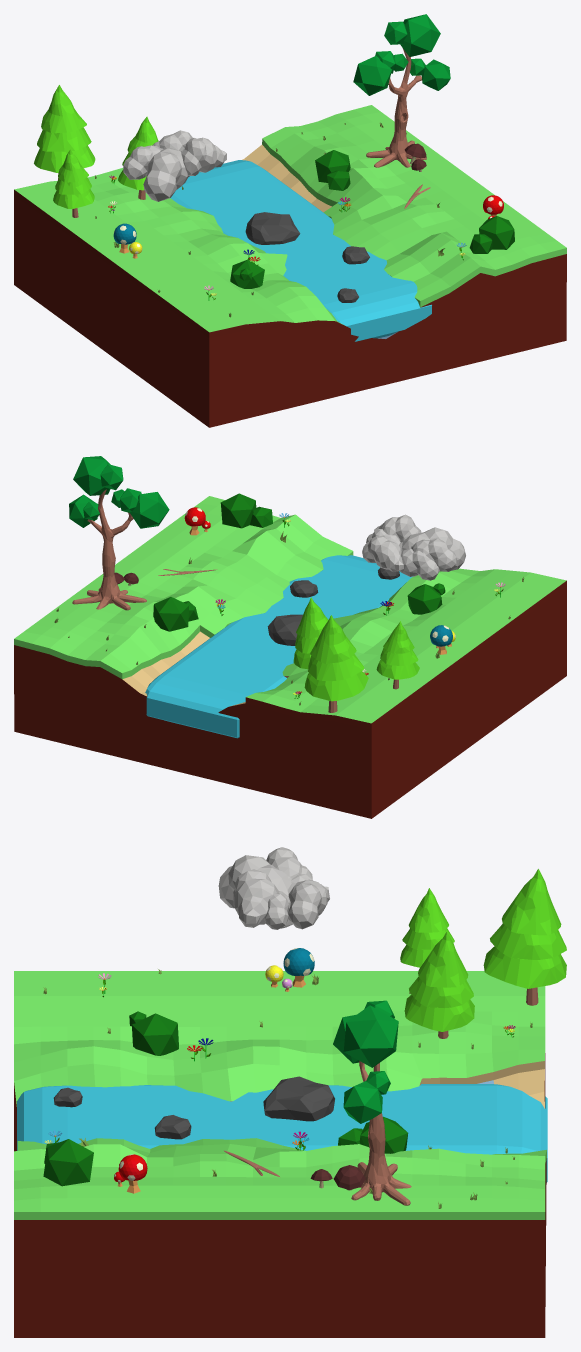
Rendered from Environment 2(with cloud - 4 squre in the center - version 1).glb.
3 renders of one model, top to bottom at view 1: azimuth 30°, elevation 25°; view 2: azimuth 150°, elevation 25°; view 3: azimuth 270°, elevation 25°, orthographic. The views are drawn at different scales.
Parts seen in each view (by area): view 1: lantai as effector, Plane, batang pokok, Sphere.002, batu.008, Cylinder.006, Sphere.004, Icosphere.003, Icosphere.006, Cylinder.007, Cylinder.008, Icosphere.011 (+7 smaller); view 2: lantai as effector, Plane, batang pokok, Cylinder.006, Cylinder.008, Sphere.006, Icosphere.010, Icosphere.003, Icosphere.006, Cylinder.007, Icosphere.011, Sphere.003 (+11 smaller); view 3: lantai as effector, Plane, batu.008, Icosphere.003, batang pokok, Cylinder.006, Cylinder.008, Sphere.004, Icosphere.011, Cylinder.007, Cylinder, Icosphere.008 (+13 smaller).
Part boxes in pixels (x1,y1,x2,y2): lantai as effector: (14,105,566,427); Plane: (170,160,431,341); batang pokok: (366,48,426,167); Sphere.002: (143,148,189,201); batu.008: (245,212,300,244); Cylinder.006: (41,85,86,133); Sphere.004: (181,137,226,175); Icosphere.003: (400,14,440,56); Icosphere.006: (353,56,391,95); Cylinder.007: (37,127,91,151); Cylinder.008: (34,145,95,172); Icosphere.011: (479,216,514,249); lantai as effector: (14,496,566,818); Plane: (145,555,412,738); batang pokok: (72,489,146,610); Cylinder.006: (310,615,356,663); Cylinder.008: (304,671,368,701); Sphere.006: (362,536,403,572); Icosphere.010: (153,597,189,631); Icosphere.003: (73,456,110,495); Icosphere.006: (130,492,169,528); Cylinder.007: (308,654,364,680); Icosphere.011: (220,493,256,528); Sphere.003: (400,548,439,580); lantai as effector: (14,971,546,1337); Plane: (17,1084,547,1182); batu.008: (263,1076,334,1121); Icosphere.003: (343,1005,398,1067); batang pokok: (351,1061,411,1205); Cylinder.006: (502,869,561,935); Cylinder.008: (483,946,566,988); Sphere.004: (233,869,279,927); Icosphere.011: (43,1139,93,1186); Cylinder.007: (490,923,566,959); Cylinder: (418,932,468,987); Icosphere.008: (132,1013,178,1055).
Bounding box in the file's own units: 20.77 × 12.4 × 19.77.
43 materials, 12 textured.
